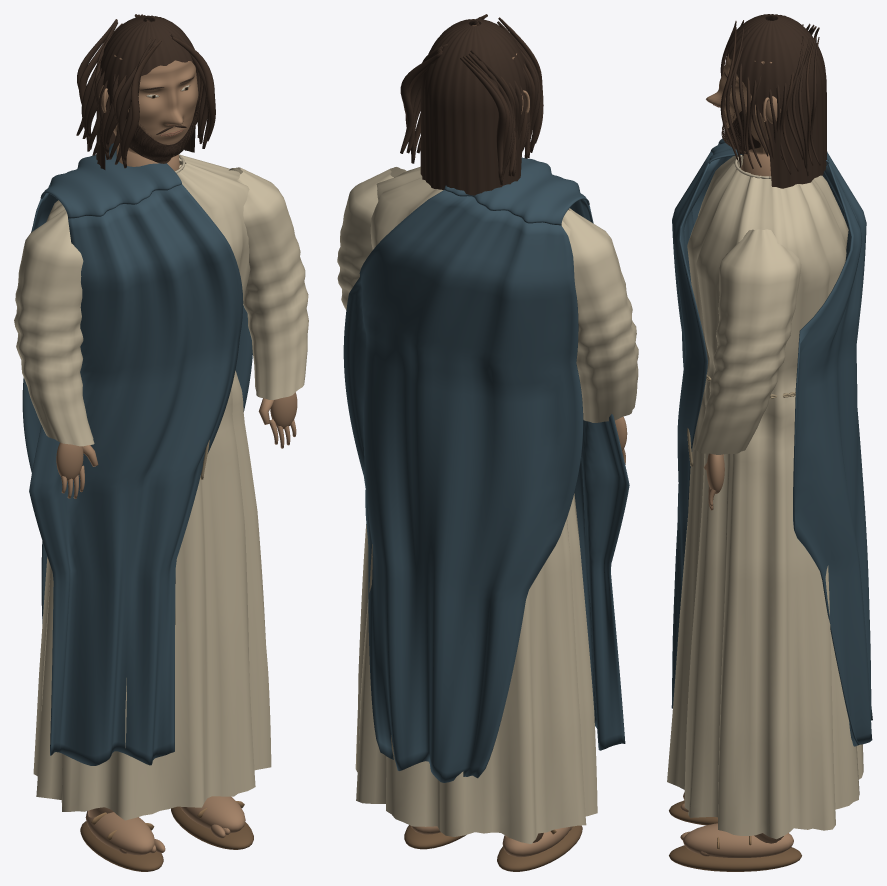
File: SM_Jesus.fbx
3 views of the same model, side by side, from view 1: azimuth 30°, elevation 25°; view 2: azimuth 150°, elevation 25°; view 3: azimuth 270°, elevation 25° (orthographic). The views are drawn at different scales.
Visible parts, largest first — view 1: SM_Jesus; view 2: SM_Jesus; view 3: SM_Jesus.
Boxes of the visible parts, x1=… form: SM_Jesus: x1=14, y1=14, x2=308, y2=871; SM_Jesus: x1=337, y1=14, x2=638, y2=871; SM_Jesus: x1=667, y1=14, x2=872, y2=871.
Bounding box in the file's own units: 65.99 × 40.74 × 180.
